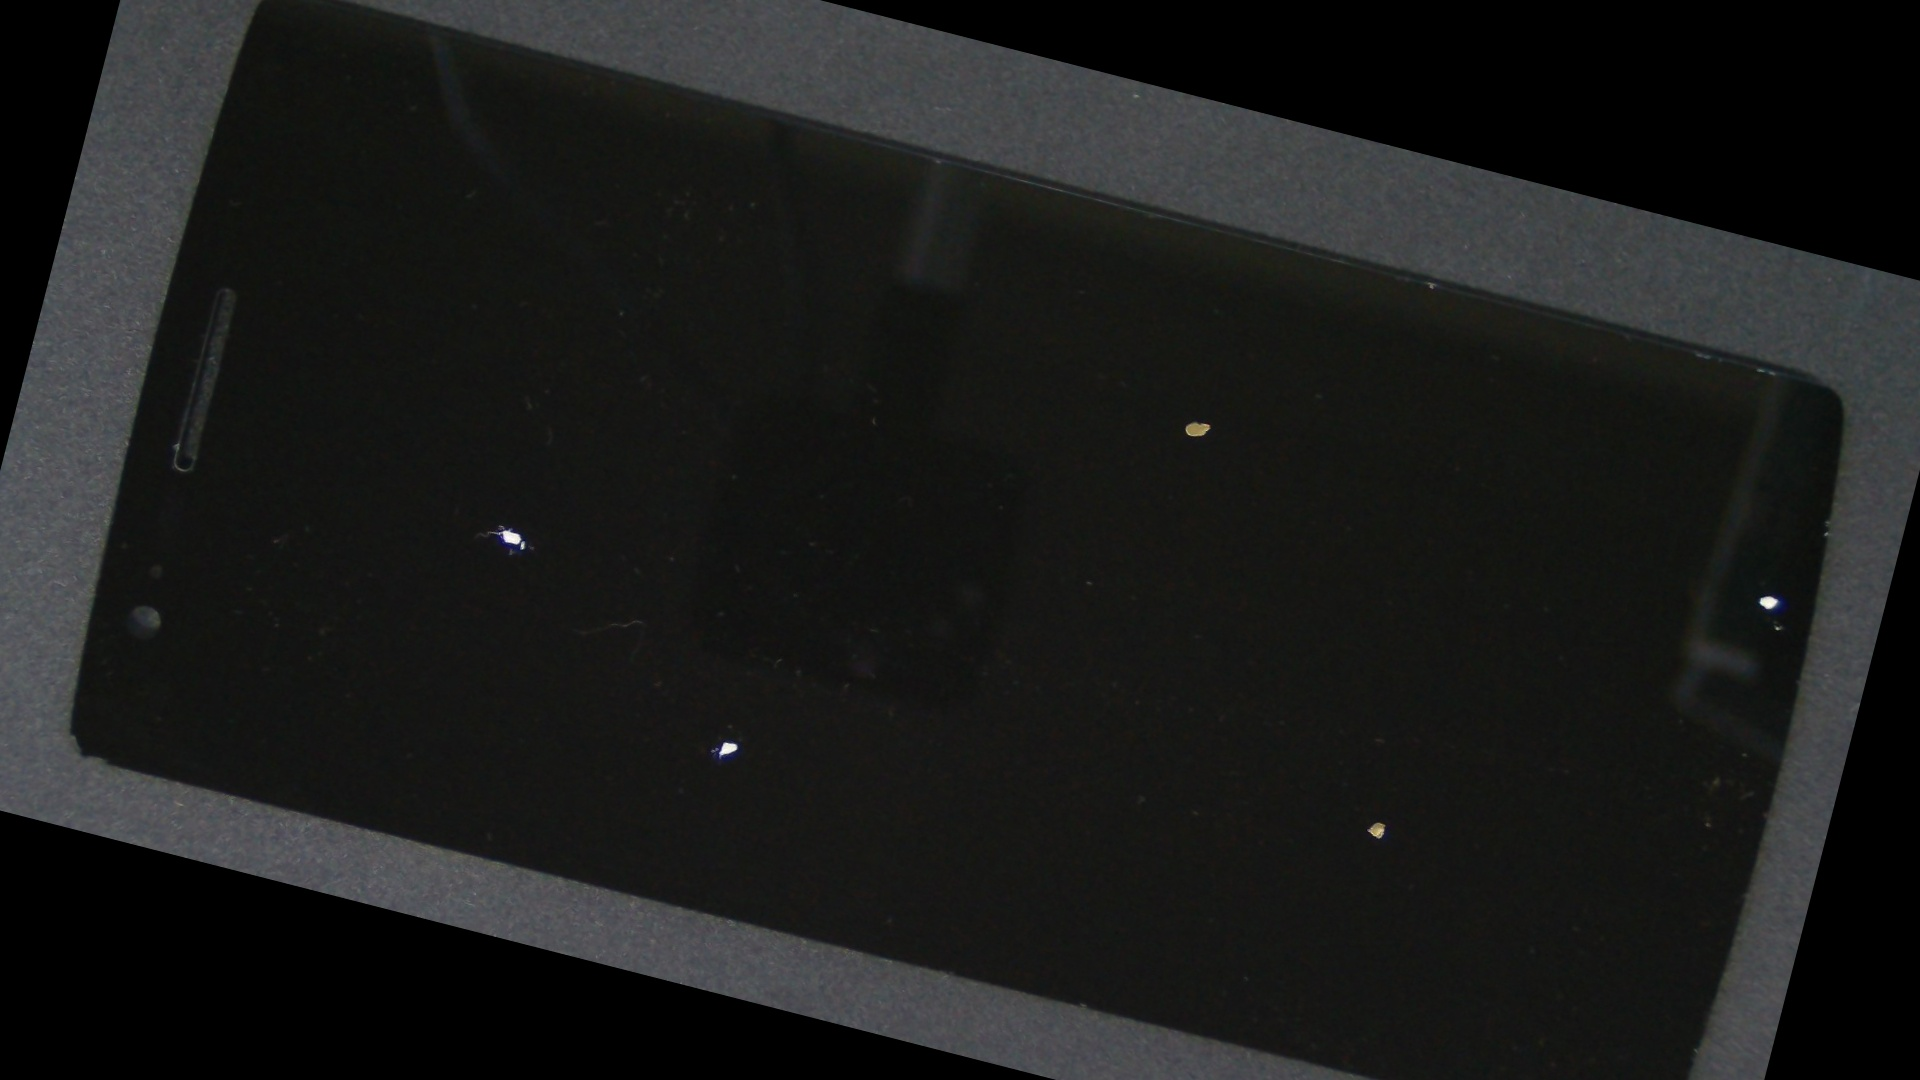oil: (613, 327, 1884, 1080), (298, 286, 1209, 1080), (605, 125, 1796, 715), (882, 212, 1920, 786), (187, 177, 814, 866)
